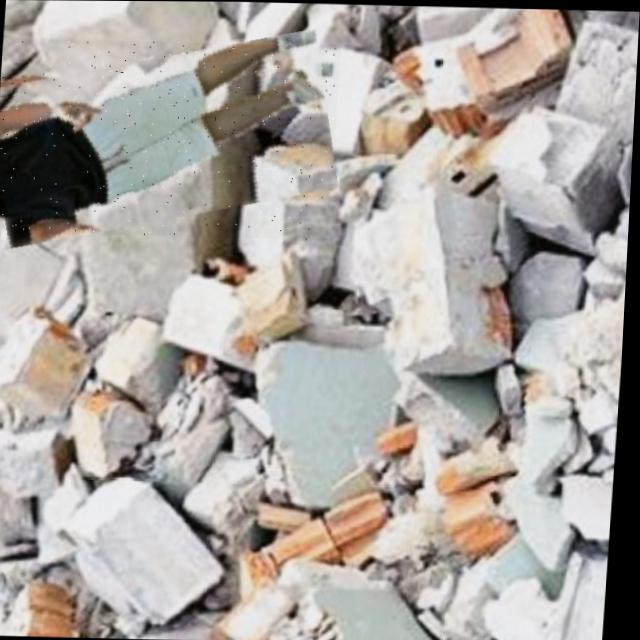Person in Rubble: (0, 37, 341, 238)
